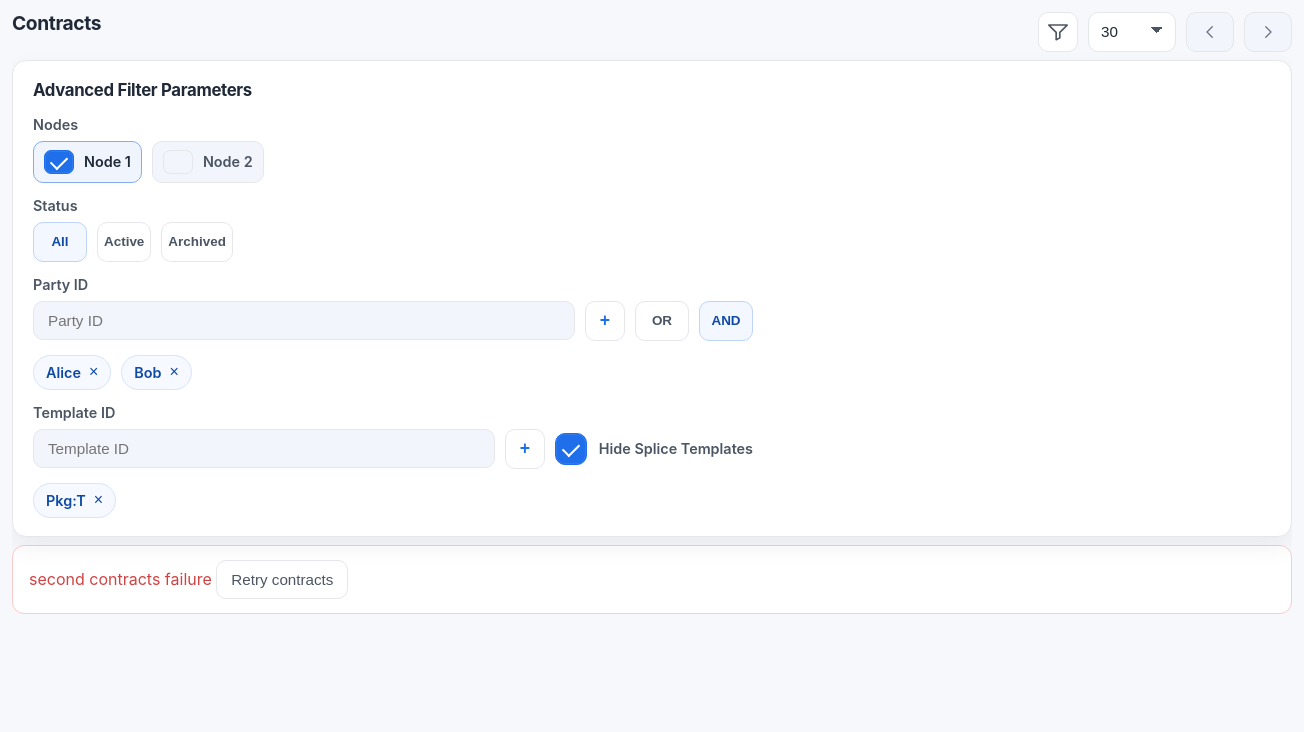
it: ContractsBrowser › retries once automatically, exposes a local Retry, and preserves the current query
Expected: the message shows "second contracts failure", [29,569,216,589]
Click the button "Retry contracts" at (282, 579), box [216,560,348,599]
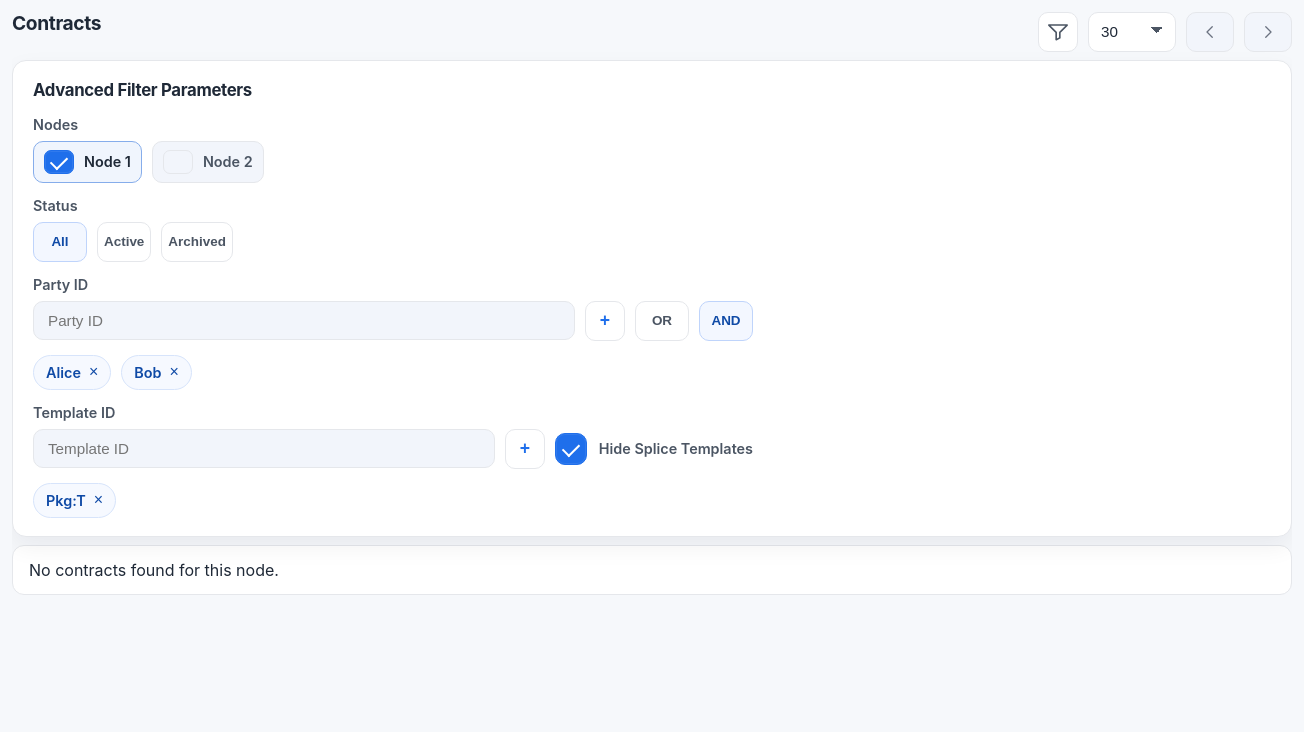
Now the text "No contracts found for this node." is shown, box [12,545,1292,595]
